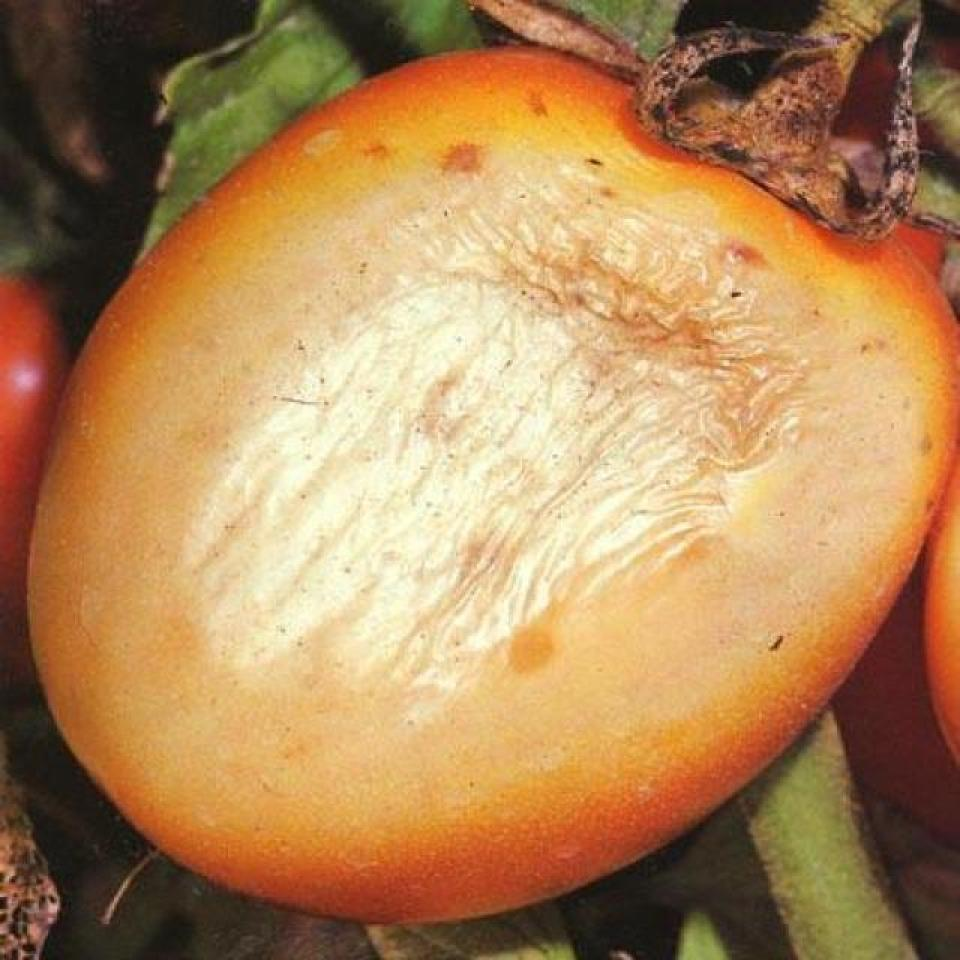Sunscald: (105, 80, 822, 830)
